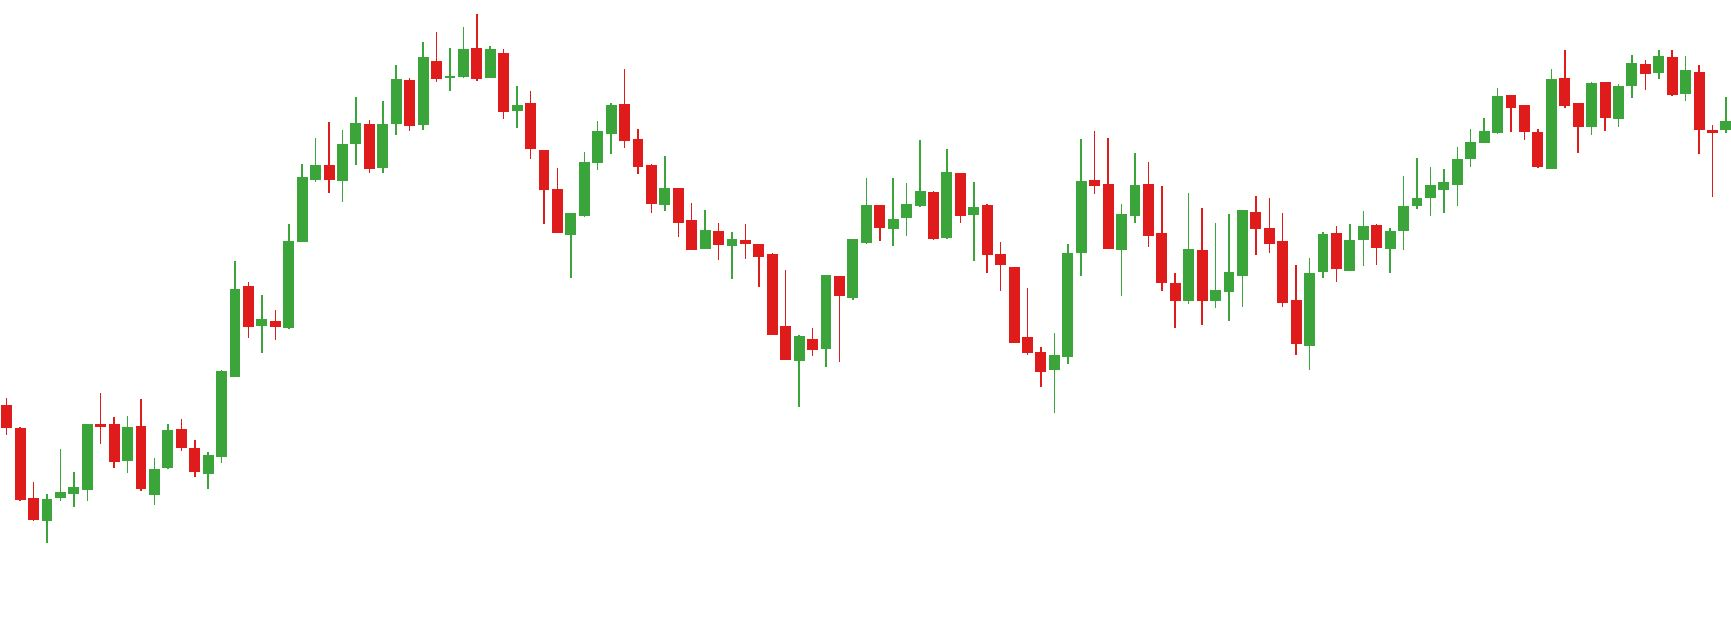buy: (793, 249, 1060, 415), (1169, 231, 1319, 369)
sell: (910, 129, 1100, 236)
